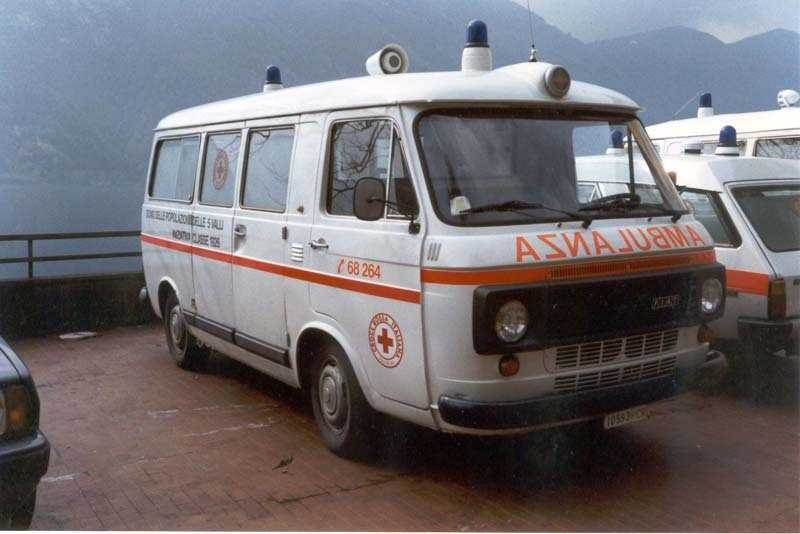Ambulance: (119, 33, 721, 458)
